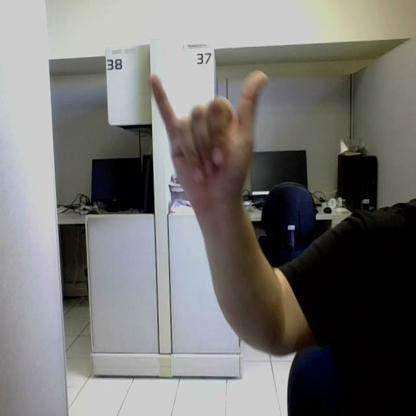Y: (150, 70, 268, 197)
